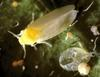whitefly: (8, 5, 77, 58)
